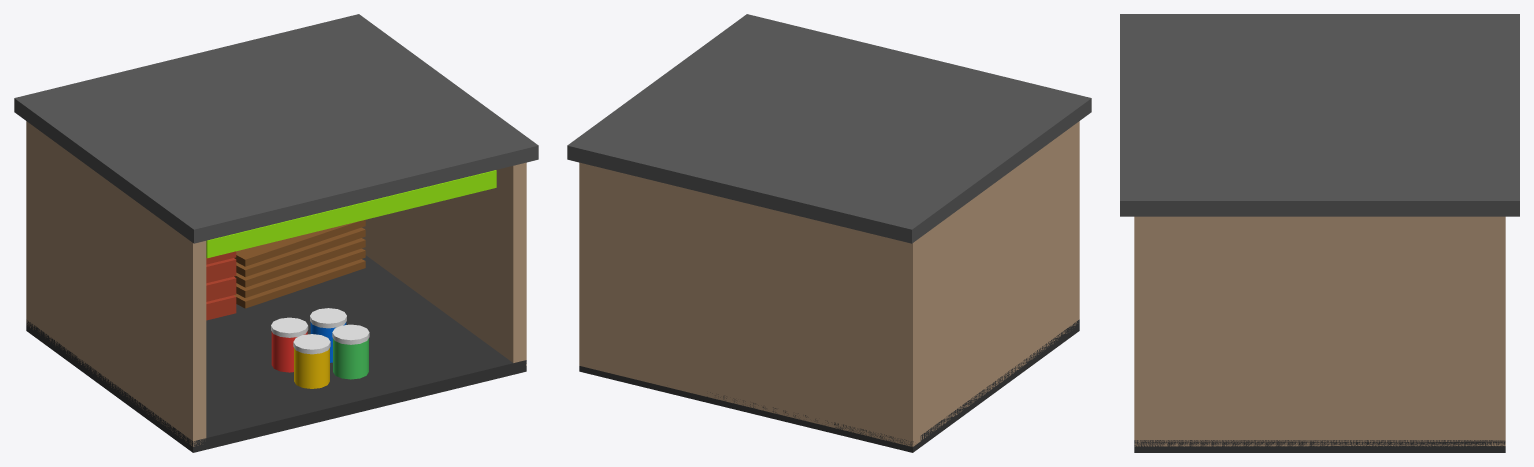
Rendered from building_supply.glb.
The picture shows the model from 3 angles, left to right: view 1: azimuth 30°, elevation 25°; view 2: azimuth 150°, elevation 25°; view 3: azimuth 270°, elevation 25°; orthographic projection. The views are drawn at different scales.
Visible parts, largest first — view 1: building_supply; view 2: building_supply; view 3: building_supply.
Part boxes in pixels (x1,y1,x2,y2): building_supply: (14, 14, 538, 452); building_supply: (567, 14, 1091, 452); building_supply: (1120, 14, 1519, 452).
Bounding box in the file's own units: 3.1 × 1.97 × 2.8.
